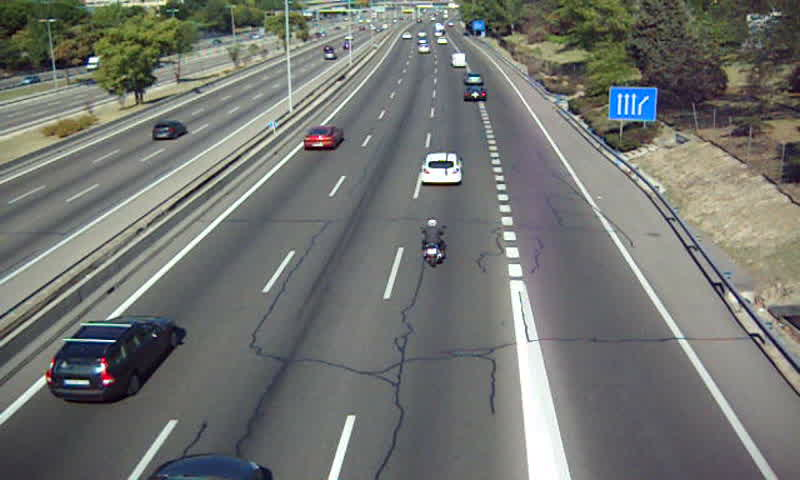car: (47, 315, 180, 404), (420, 153, 462, 184), (303, 125, 342, 150), (463, 86, 488, 101), (463, 72, 485, 87)
motorcycle: (418, 218, 446, 267)
van: (450, 52, 467, 68)
